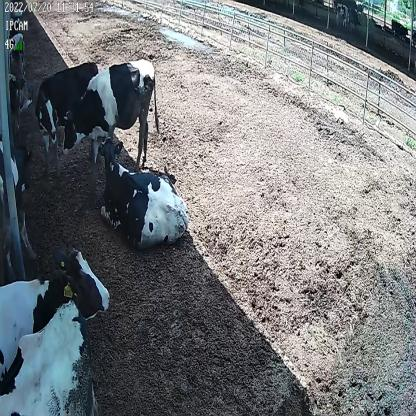cow: (60, 58, 160, 165), (96, 136, 190, 246), (35, 58, 99, 161)
